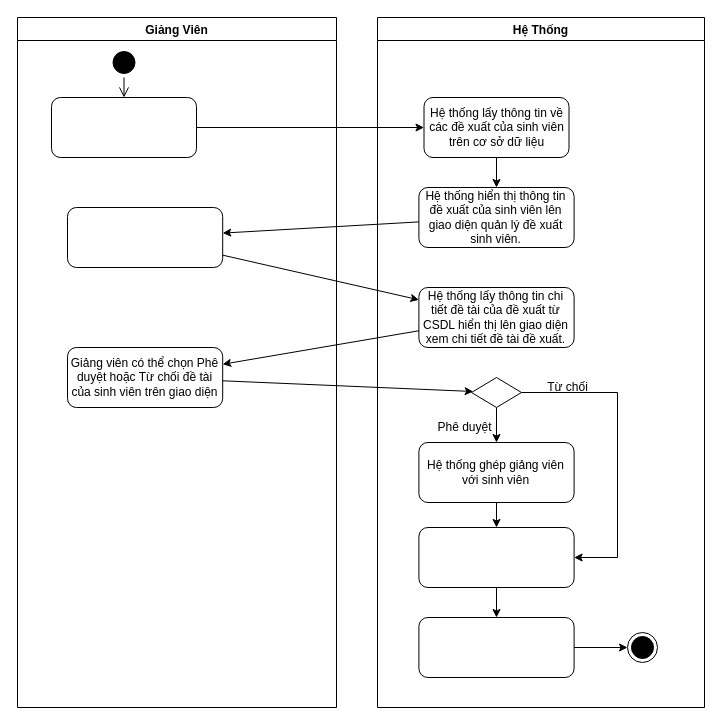
This 722x725 diagram has some shape labels left out. The shapes that lost their labels are listed below. From the top down, each one's box as (x1, y1, x2, y2) in pixels, then its label:
(50, 96, 196, 158): Giảng viên chọn chức năng quản lý đề xuất sinh viên
(66, 206, 223, 268): Giảng viên chọn xem chi tiết đề tài của 1 đề xuất
(418, 526, 574, 588): Hệ thống xoá bỏ đề xuất khỏi CSDL
(418, 616, 574, 678): Hệ thống hiển thị giao diện quản lý đề xuất.
